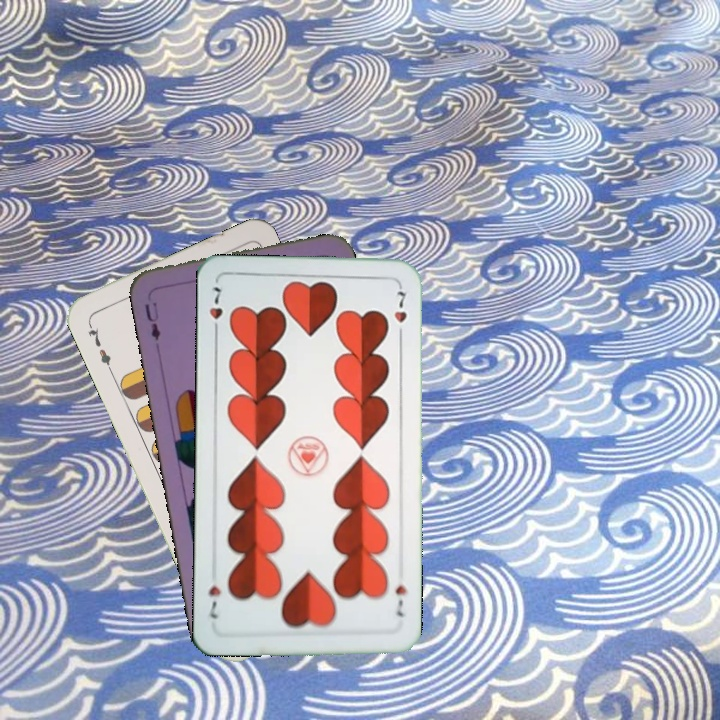E7: (83, 318, 115, 374)
EU: (141, 298, 163, 343)
H7: (205, 282, 226, 339), (391, 581, 410, 619)
